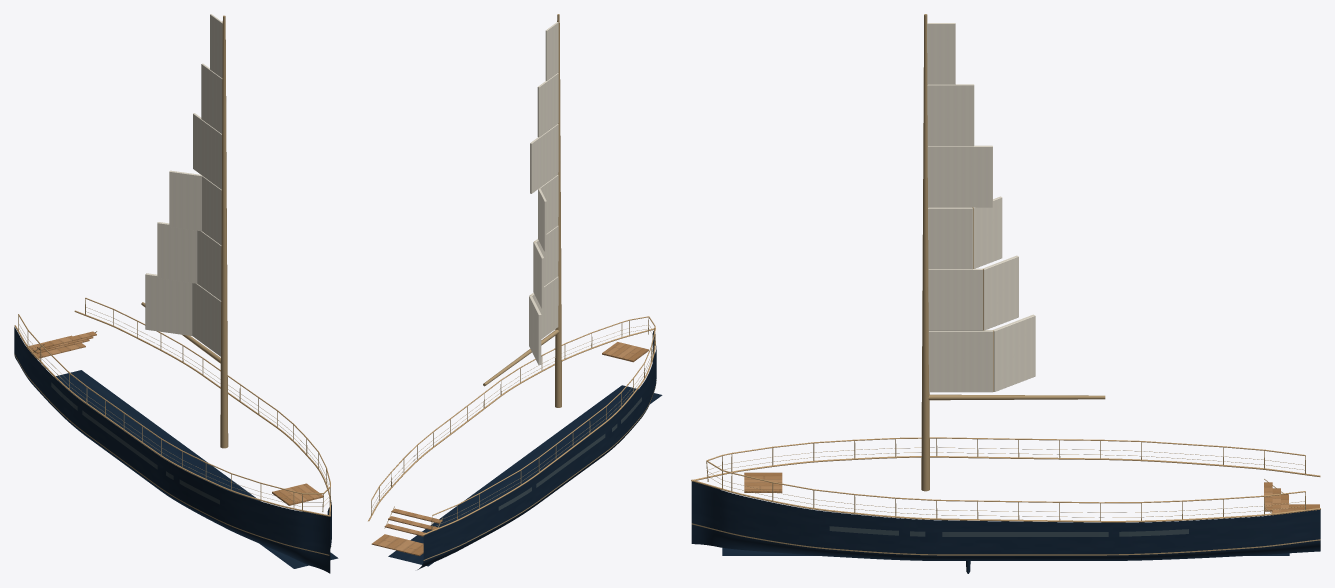
File: yacht_hull_rig.glb
The picture shows the model from 3 angles, left to right: view 1: azimuth 30°, elevation 25°; view 2: azimuth 150°, elevation 25°; view 3: azimuth 270°, elevation 25°; orthographic projection. The views are drawn at different scales.
Parts seen in each view (by area): view 1: hull_shell, sails, stripe, toe_rail, deck, windows; view 2: hull_shell, sails, stripe, toe_rail, deck, windows; view 3: hull_shell, sails, stripe, toe_rail, windows, deck.
Part boxes in pixels (left/top/right/bottom): hull_shell: left=14, top=327, right=338, bottom=573; sails: left=145, top=14, right=222, bottom=356; stripe: left=14, top=15, right=331, bottom=555; toe_rail: left=14, top=297, right=331, bottom=516; deck: left=27, top=331, right=322, bottom=505; windows: left=51, top=382, right=219, bottom=504; hull_shell: left=388, top=331, right=662, bottom=569; sails: left=529, top=22, right=558, bottom=365; stripe: left=371, top=14, right=656, bottom=560; toe_rail: left=368, top=316, right=655, bottom=535; deck: left=371, top=342, right=648, bottom=555; windows: left=498, top=397, right=641, bottom=510; hull_shell: left=691, top=481, right=1320, bottom=573; sails: left=927, top=23, right=1035, bottom=392; stripe: left=691, top=14, right=1320, bottom=555; toe_rail: left=691, top=437, right=1320, bottom=522; windows: left=829, top=526, right=1188, bottom=536; deck: left=744, top=472, right=1319, bottom=515.
Size of the model in its own units: 4.77 by 19.57 by 19.98.
Materials: 6 (5 with a texture image).
